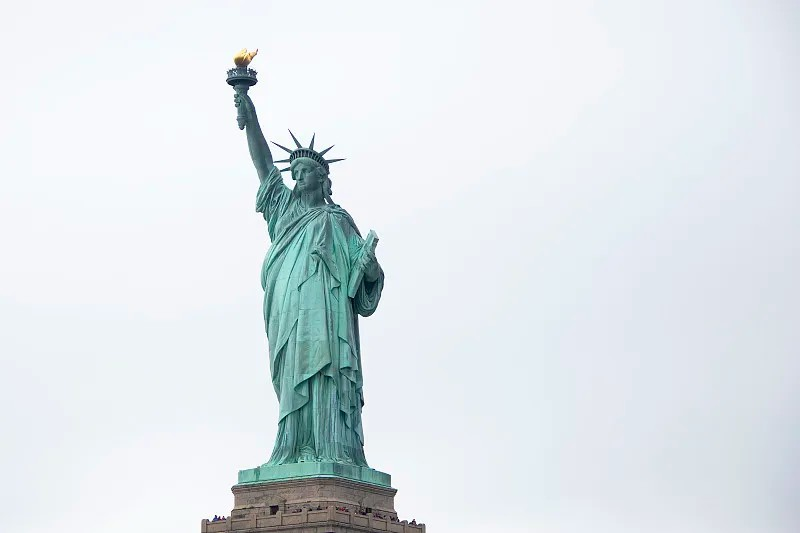SL: (202, 46, 425, 533)
